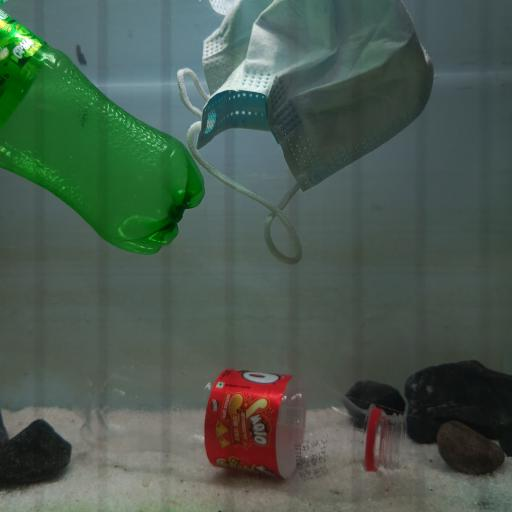mask: (177, 0, 435, 267)
plastic_bottle: (0, 10, 207, 256), (70, 358, 409, 480)
